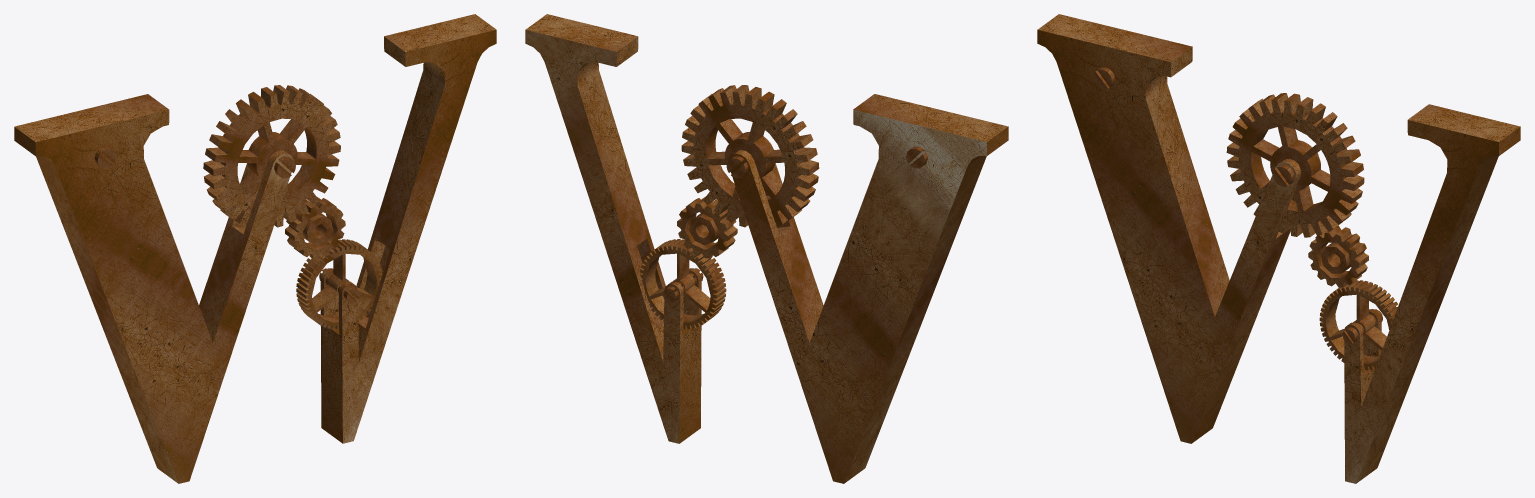
3 views of the same model, side by side, from view 1: azimuth 30°, elevation 25°; view 2: azimuth 150°, elevation 25°; view 3: azimuth 330°, elevation 25° (orthographic).
Visible parts, largest first — view 1: W, Cogwheel_247, Cogwheel_254, Cogwheel_255; view 2: W, Cogwheel_247, Cogwheel_254, Cogwheel_255; view 3: W, Cogwheel_247, Cogwheel_254, Cogwheel_255.
Boxes of the visible parts, left/top/right/bottom form: W: left=14, top=14, right=496, bottom=483; Cogwheel_247: left=203, top=85, right=340, bottom=227; Cogwheel_254: left=296, top=239, right=382, bottom=329; Cogwheel_255: left=285, top=197, right=345, bottom=258; W: left=525, top=14, right=1008, bottom=483; Cogwheel_247: left=681, top=85, right=819, bottom=227; Cogwheel_254: left=640, top=239, right=726, bottom=329; Cogwheel_255: left=677, top=196, right=737, bottom=258; W: left=1037, top=14, right=1520, bottom=483; Cogwheel_247: left=1226, top=93, right=1364, bottom=237; Cogwheel_254: left=1319, top=280, right=1397, bottom=370; Cogwheel_255: left=1308, top=225, right=1368, bottom=287.
Bounding box in the file's own units: 124 × 96.71 × 12.89.
Materials: 1 (1 with a texture image).
